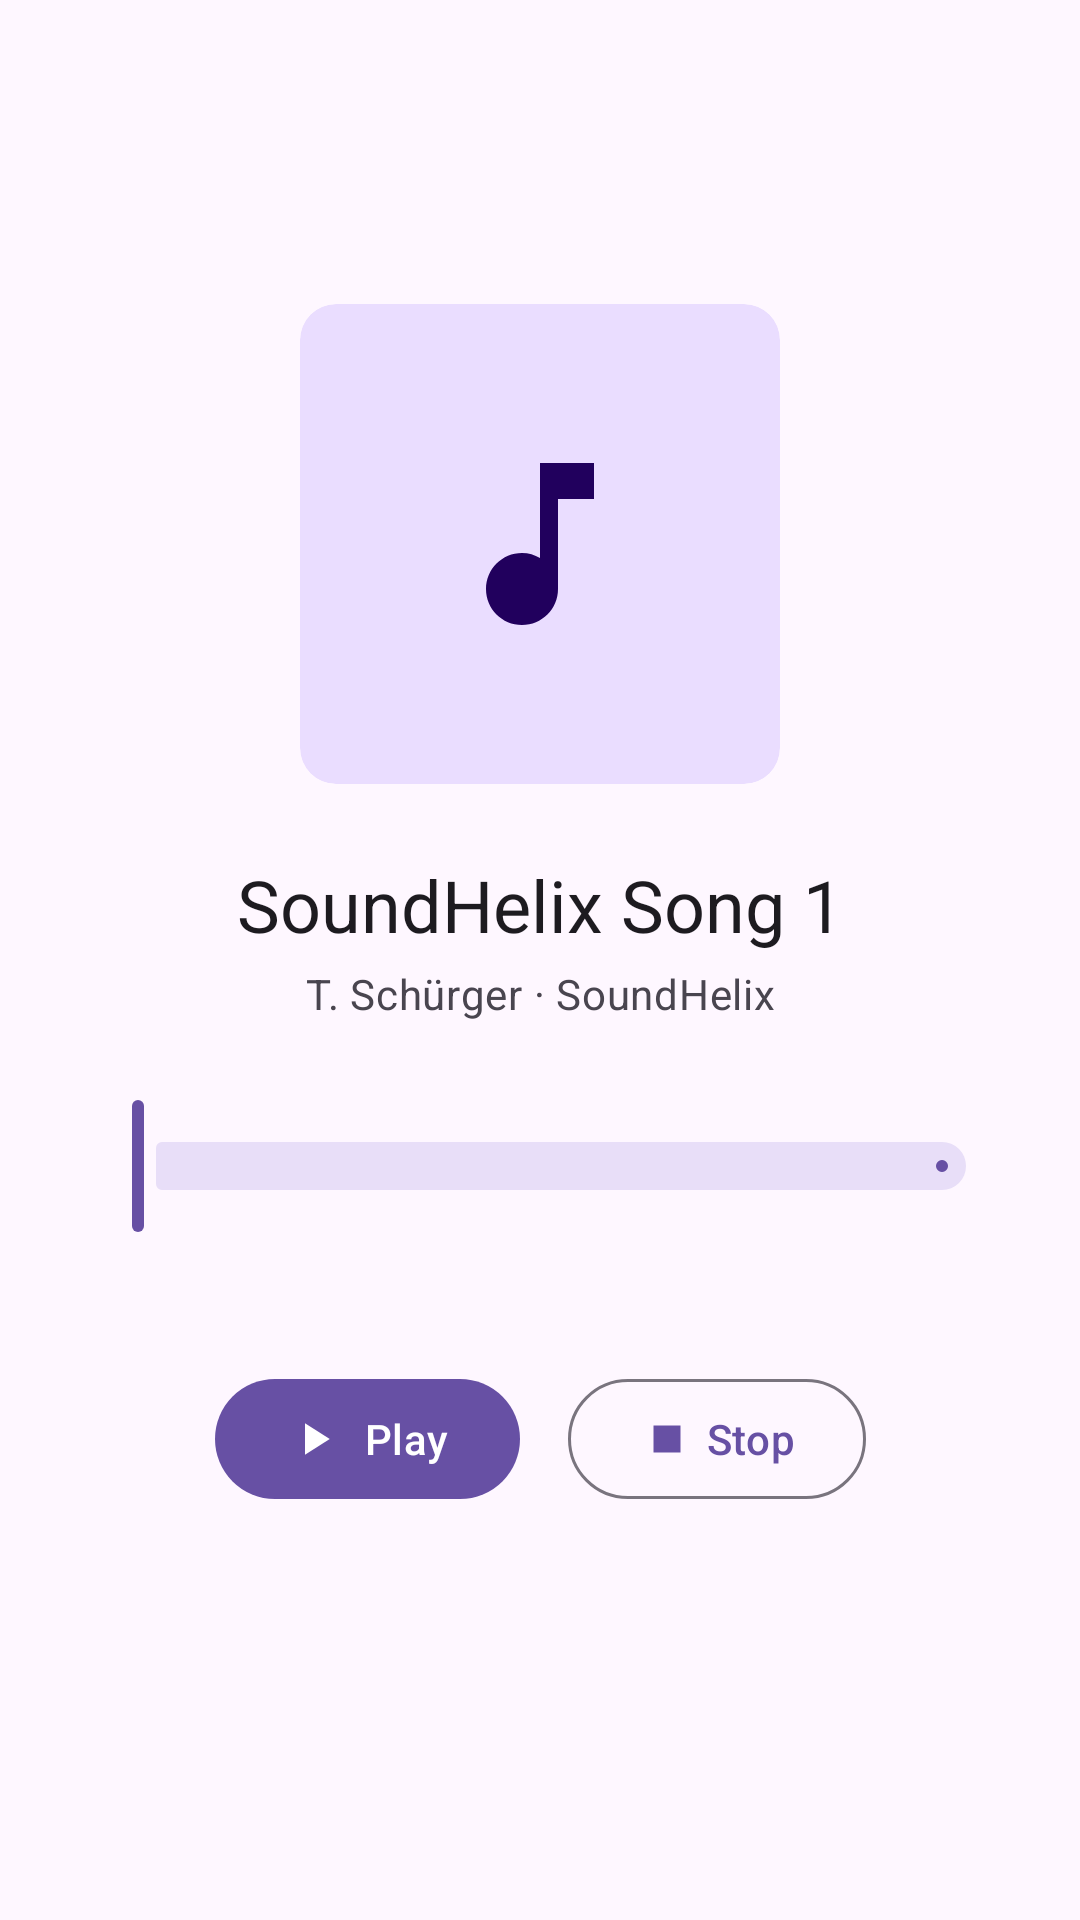

Named icons in this screenshot (1080×1920) and their centers, [x,y]:
music note: [540,544]
